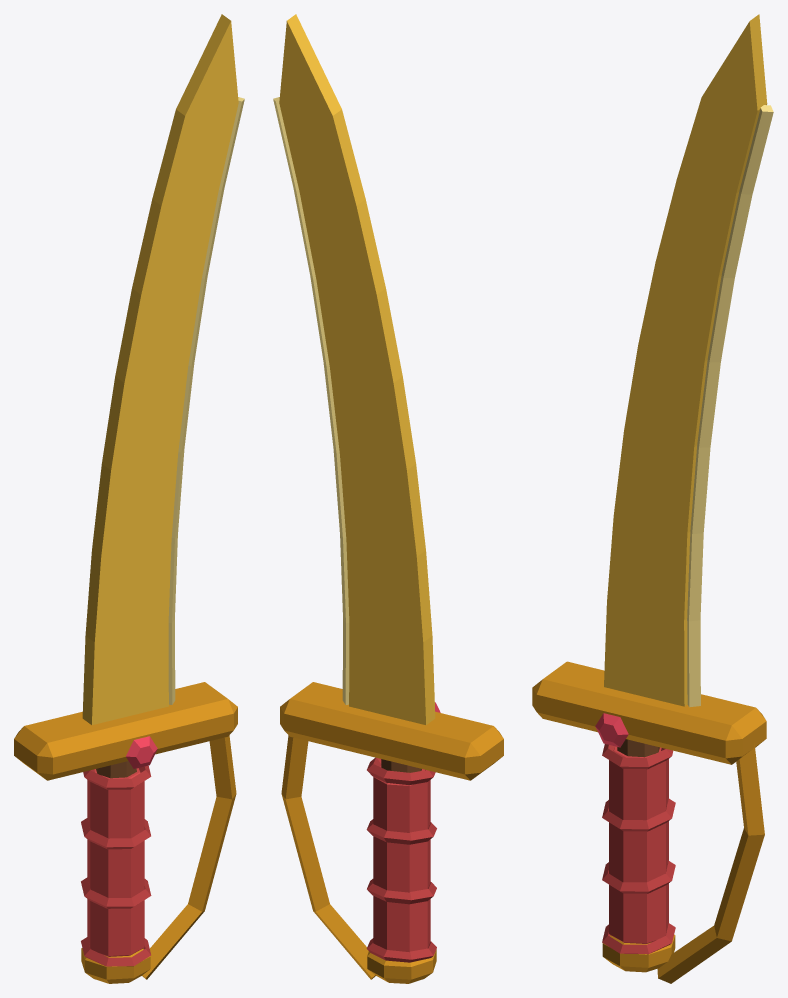
The model's file is GoldCutlass.fbx.
3 renders of one model, left to right at view 1: azimuth 30°, elevation 25°; view 2: azimuth 150°, elevation 25°; view 3: azimuth 330°, elevation 25°, orthographic. The views are drawn at different scales.
Visible parts, largest first — view 1: GoldCutlass; view 2: GoldCutlass; view 3: GoldCutlass.
Boxes of the visible parts, left/top/right/bottom form: GoldCutlass: left=14, top=14, right=244, bottom=983; GoldCutlass: left=273, top=14, right=503, bottom=983; GoldCutlass: left=532, top=14, right=773, bottom=983.
Bounding box in the file's own units: 1.09 × 4.49 × 0.4065.
Materials: 1 (1 with a texture image).
